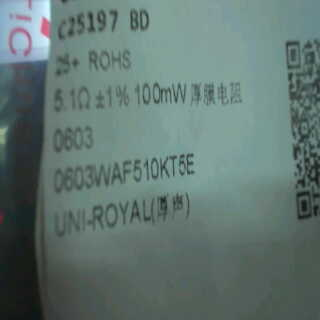5.1R: (50, 84, 93, 116)
